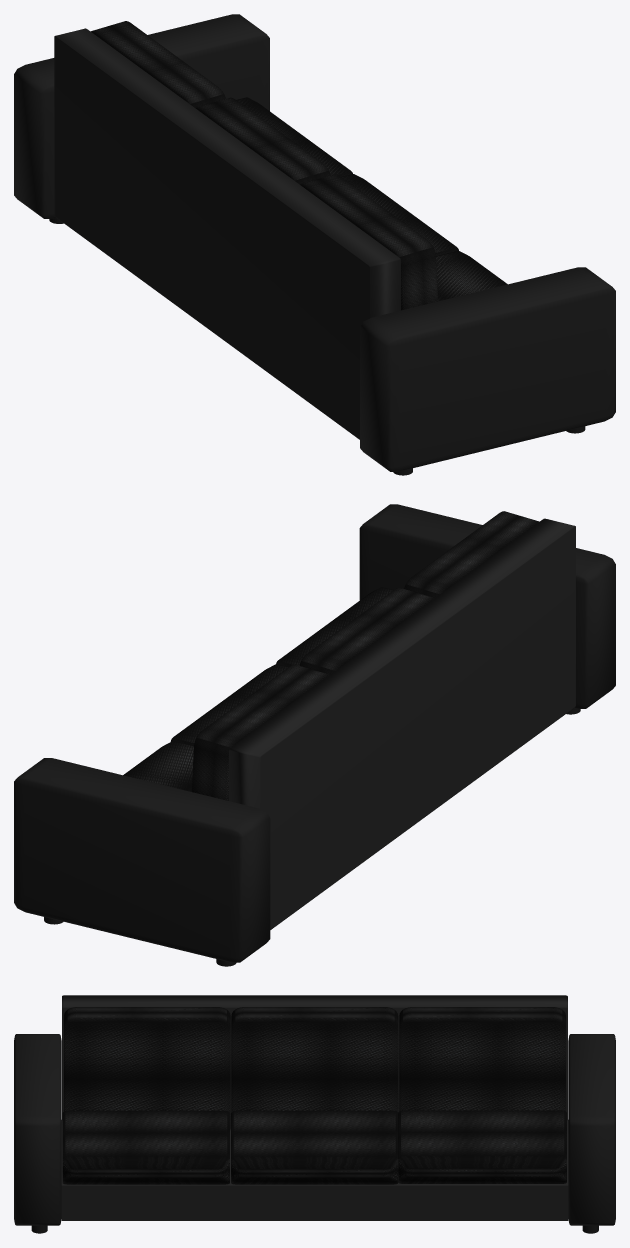
File: BigSofa.glb
3 views of the same model, one above another, from view 1: azimuth 30°, elevation 25°; view 2: azimuth 150°, elevation 25°; view 3: azimuth 270°, elevation 25° (orthographic). The views are drawn at different scales.
Parts seen in each view (by area): view 1: Cube, Cube.002, Cube.001, Cube.005, Cube.009, Cube.007, Cube.011, Cube.003, Cube.004; view 2: Cube, Cube.001, Cube.002, Cube.009, Cube.007, Cube.005, Cube.004, Cube.003, Cube.011; view 3: Cube.006, Cube.007, Cube.005, Cube.009, Cube.011, Cube.003, Cube.004, Cube.001, Cube.002, Cube.
Boxes of the visible parts, x1=… form: Cube: x1=54, y1=28, x2=400, y2=439; Cube.002: x1=360, y1=267, x2=615, y2=471; Cube.001: x1=14, y1=14, x2=269, y2=218; Cube.005: x1=300, y1=174, x2=437, y2=310; Cube.009: x1=91, y1=21, x2=225, y2=107; Cube.007: x1=195, y1=97, x2=330, y2=184; Cube.011: x1=436, y1=250, x2=507, y2=301; Cube.003: x1=341, y1=174, x2=458, y2=255; Cube.004: x1=236, y1=97, x2=352, y2=176; Cube: x1=229, y1=518, x2=575, y2=929; Cube.001: x1=14, y1=758, x2=270, y2=962; Cube.002: x1=359, y1=504, x2=615, y2=708; Cube.009: x1=191, y1=664, x2=329, y2=800; Cube.007: x1=299, y1=587, x2=434, y2=674; Cube.005: x1=404, y1=511, x2=539, y2=597; Cube.004: x1=123, y1=741, x2=193, y2=791; Cube.003: x1=170, y1=664, x2=288, y2=745; Cube.011: x1=276, y1=587, x2=393, y2=666; Cube.006: x1=61, y1=1120, x2=568, y2=1220; Cube.007: x1=231, y1=1007, x2=398, y2=1112; Cube.005: x1=64, y1=1007, x2=230, y2=1129; Cube.009: x1=399, y1=1007, x2=565, y2=1111; Cube.011: x1=62, y1=1110, x2=229, y2=1184; Cube.003: x1=231, y1=1110, x2=398, y2=1184; Cube.004: x1=398, y1=1110, x2=566, y2=1183; Cube.001: x1=568, y1=1034, x2=615, y2=1225; Cube.002: x1=14, y1=1034, x2=61, y2=1225; Cube: x1=62, y1=995, x2=567, y2=1120.
Size of the model in its own units: 0.9815 by 0.8294 by 2.78.
Materials: 4 (1 with a texture image).
